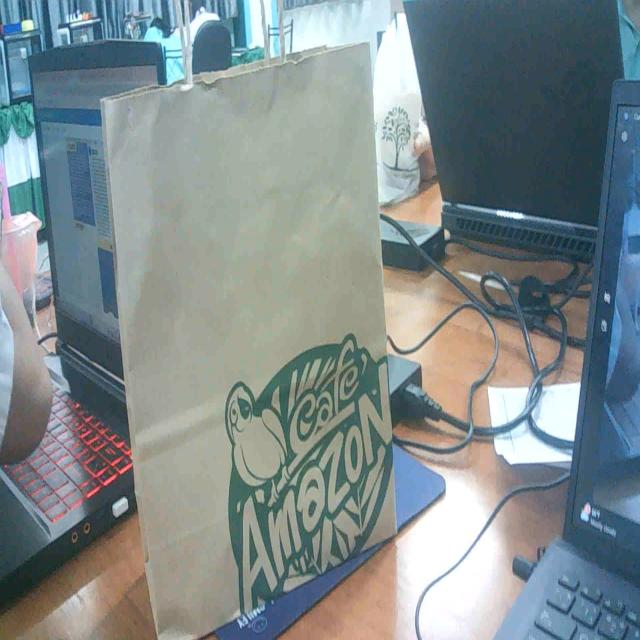bag: (114, 56, 405, 640)
